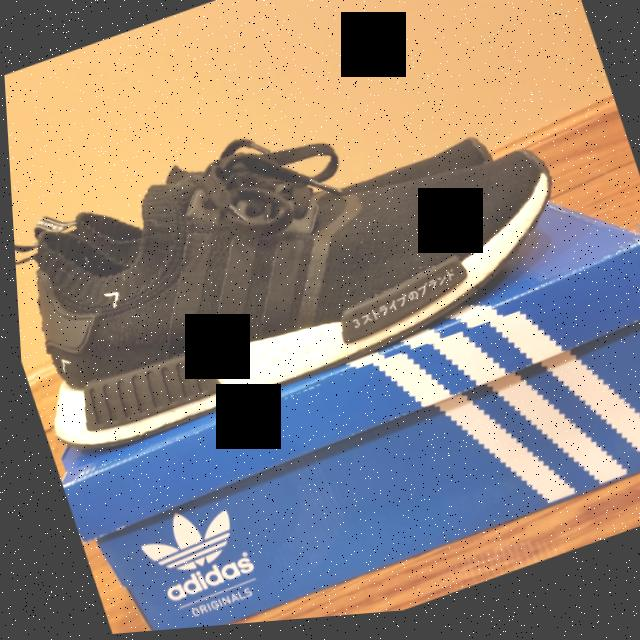shoe: (2, 5, 640, 474)
